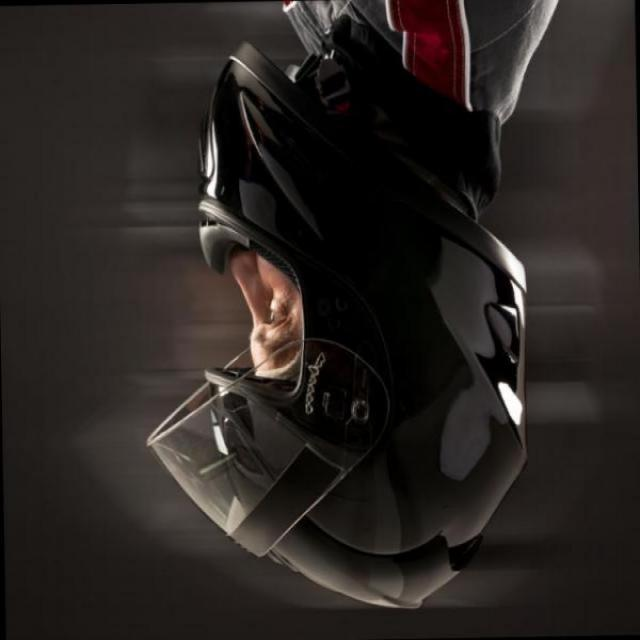Helmet: (120, 57, 525, 616)
